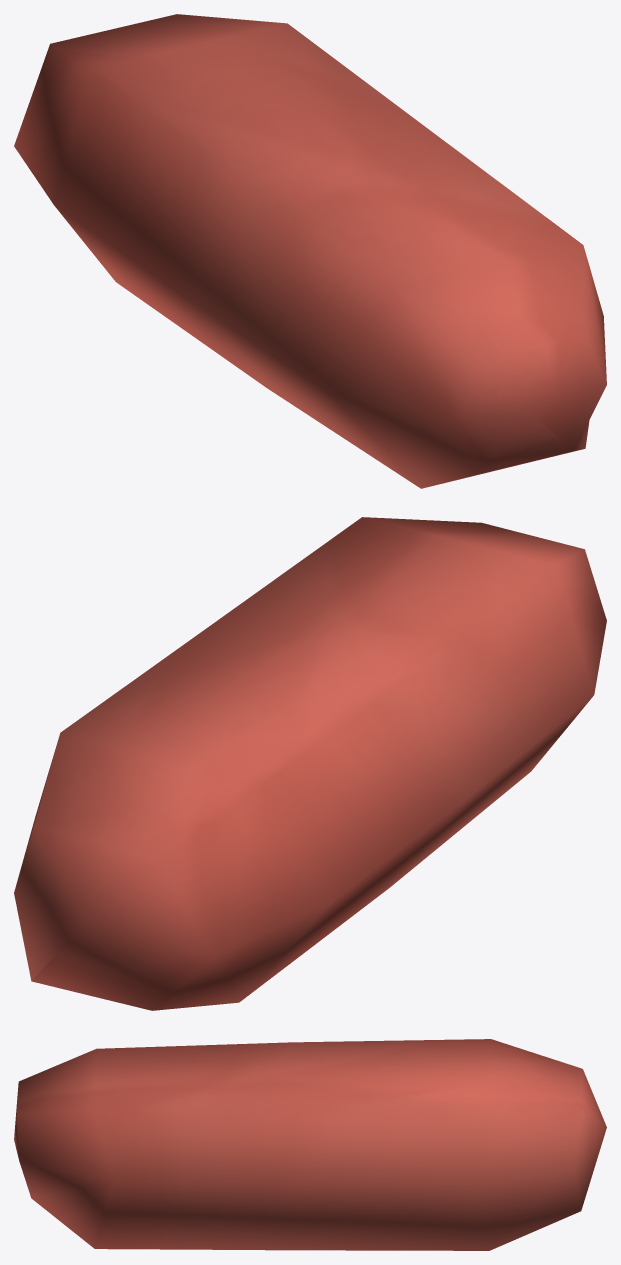
File: SM_PROP_food_sausage_04.FBX
3 views of the same model, one above another, from view 1: azimuth 30°, elevation 25°; view 2: azimuth 150°, elevation 25°; view 3: azimuth 270°, elevation 25° (orthographic). The views are drawn at different scales.
Visible parts, largest first — view 1: SM_PROP_food_sausage_04; view 2: SM_PROP_food_sausage_04; view 3: SM_PROP_food_sausage_04.
Part boxes in pixels (<box>): SM_PROP_food_sausage_04: <box>14,14,606,488</box>; SM_PROP_food_sausage_04: <box>14,517,606,1010</box>; SM_PROP_food_sausage_04: <box>14,1039,606,1250</box>.
Bounding box in the file's own units: 11.09 × 29.61 × 8.06.
